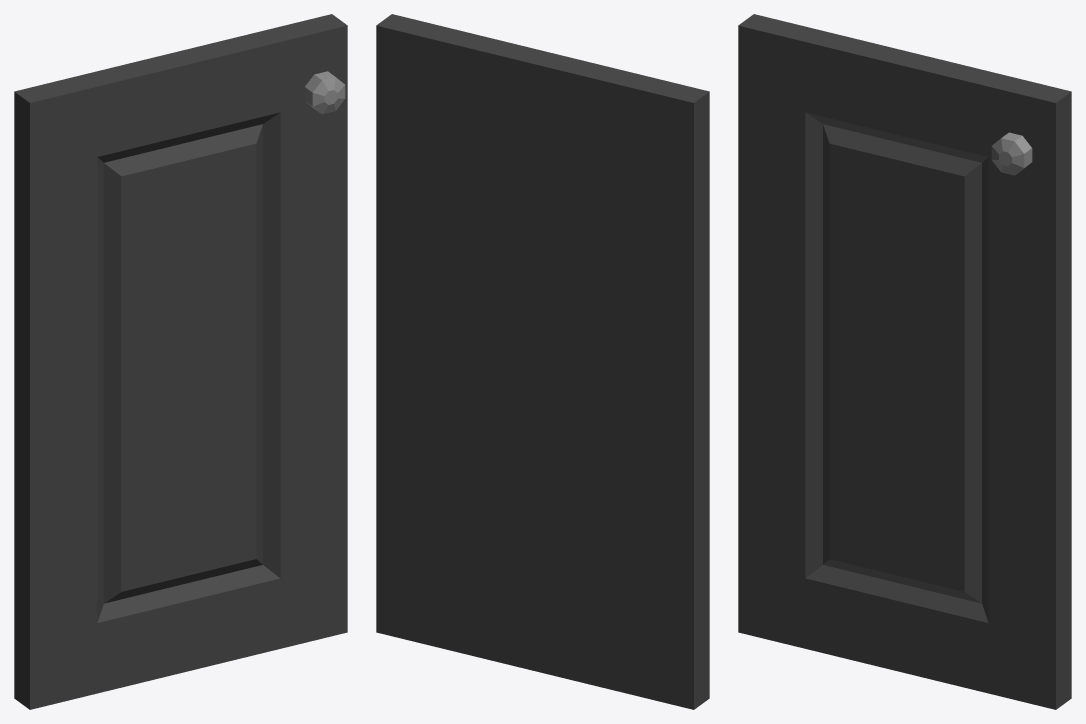
File: Door3_C3_10.fbx
3 views of the same model, side by side, from view 1: azimuth 30°, elevation 25°; view 2: azimuth 150°, elevation 25°; view 3: azimuth 330°, elevation 25° (orthographic).
Parts seen in each view (by area): view 1: Door3_C3_10; view 2: Door3_C3_10; view 3: Door3_C3_10.
Boxes of the visible parts, box(x1,y1,x2,y2) form: Door3_C3_10: box(14, 14, 347, 709); Door3_C3_10: box(376, 14, 709, 709); Door3_C3_10: box(738, 14, 1071, 709).
Size of the model in its own units: 29 by 52.92 by 5.19.
